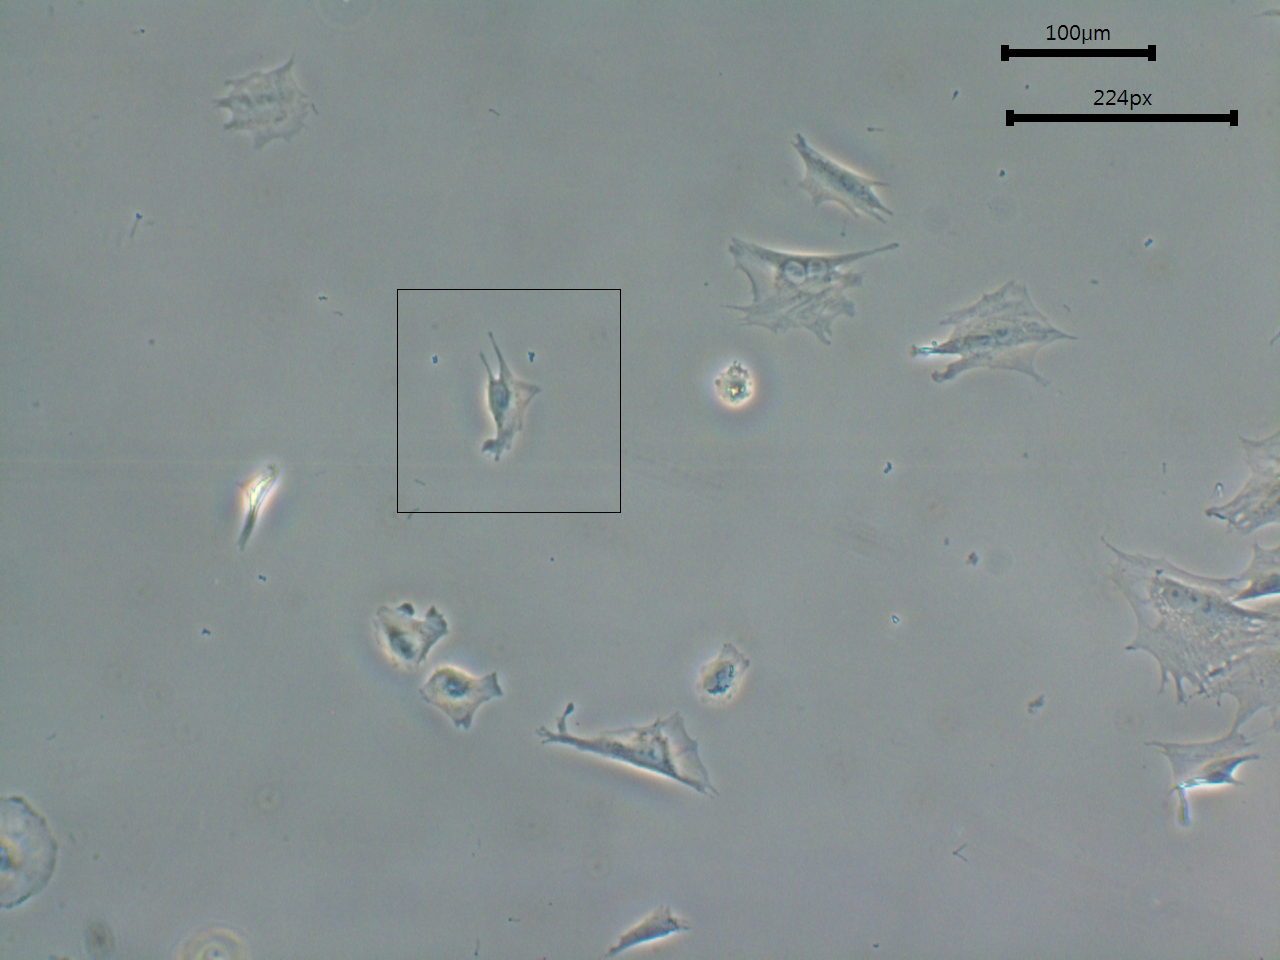dividing: (1082, 529, 1280, 721), (715, 232, 906, 347), (921, 272, 1083, 392)
medium-polygonal: (534, 695, 733, 807)
small-polygonal: (780, 121, 901, 234), (462, 330, 548, 470)
small-round: (705, 354, 763, 413)
small-spread: (196, 47, 337, 157), (418, 659, 515, 735), (369, 595, 451, 676)
